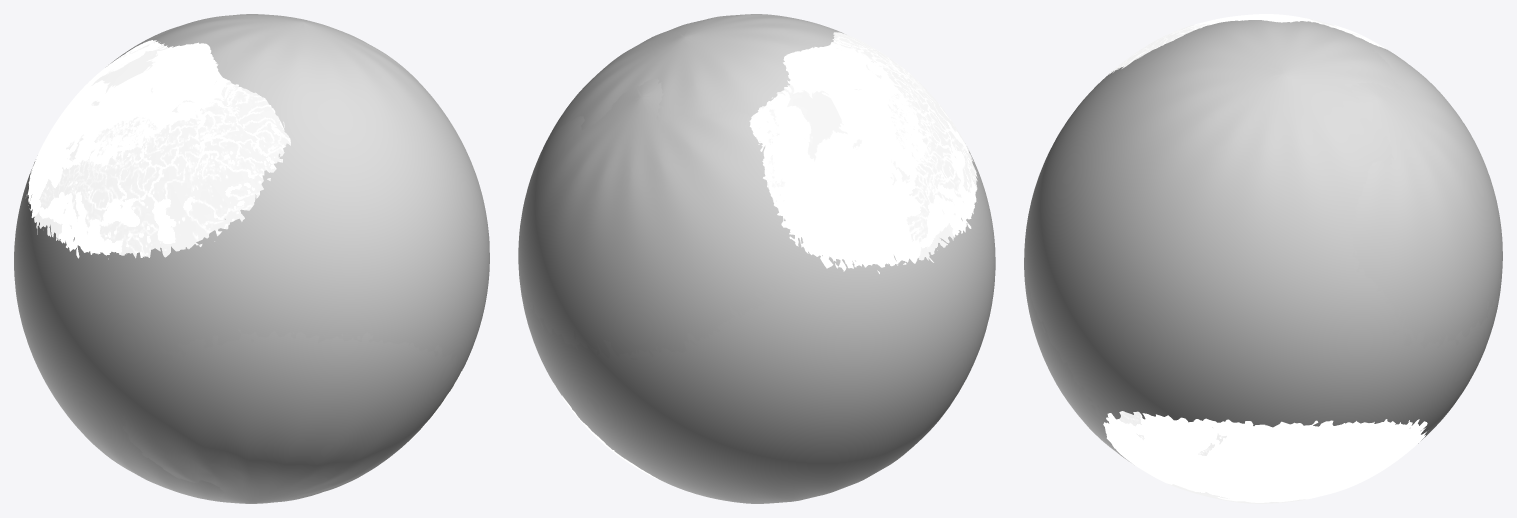
File: earth.glb
3 views of the same model, side by side, from view 1: azimuth 30°, elevation 25°; view 2: azimuth 150°, elevation 25°; view 3: azimuth 270°, elevation 25° (orthographic).
Parts seen in each view (by area): view 1: atmo, cloud, surface; view 2: atmo, cloud, surface; view 3: atmo, cloud, surface.
Part boxes in pixels (<box>): atmo: <box>14,14,489,503</box>; cloud: <box>110,26,459,503</box>; surface: <box>26,40,462,446</box>; atmo: <box>518,14,995,503</box>; cloud: <box>519,78,801,359</box>; surface: <box>551,32,977,482</box>; atmo: <box>1024,20,1501,443</box>; cloud: <box>1024,43,1502,462</box>; surface: <box>1103,14,1427,503</box>.
Size of the model in its own units: 1198 by 1231 by 1197.
2 materials, 1 textured.
